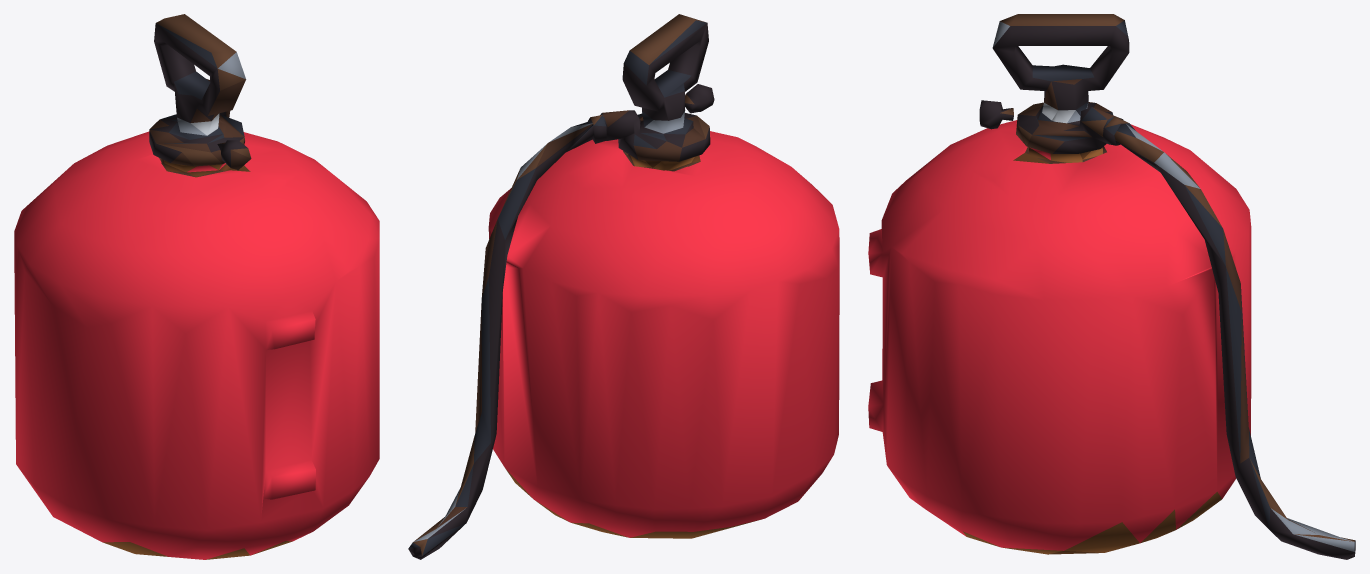
The model's file is SM_gas_cylinder_red.fbx.
The picture shows the model from 3 angles, left to right: view 1: azimuth 30°, elevation 25°; view 2: azimuth 150°, elevation 25°; view 3: azimuth 270°, elevation 25°; orthographic projection. The views are drawn at different scales.
Parts seen in each view (by area): view 1: SM_gas_cylinder_red; view 2: SM_gas_cylinder_red; view 3: SM_gas_cylinder_red.
Part boxes in pixels (bbox=[...]): SM_gas_cylinder_red: bbox=[14, 14, 379, 559]; SM_gas_cylinder_red: bbox=[408, 14, 839, 559]; SM_gas_cylinder_red: bbox=[868, 14, 1355, 559].
Size of the model in its own units: 42.07 by 60 by 54.8.
1 material, 1 textured.
